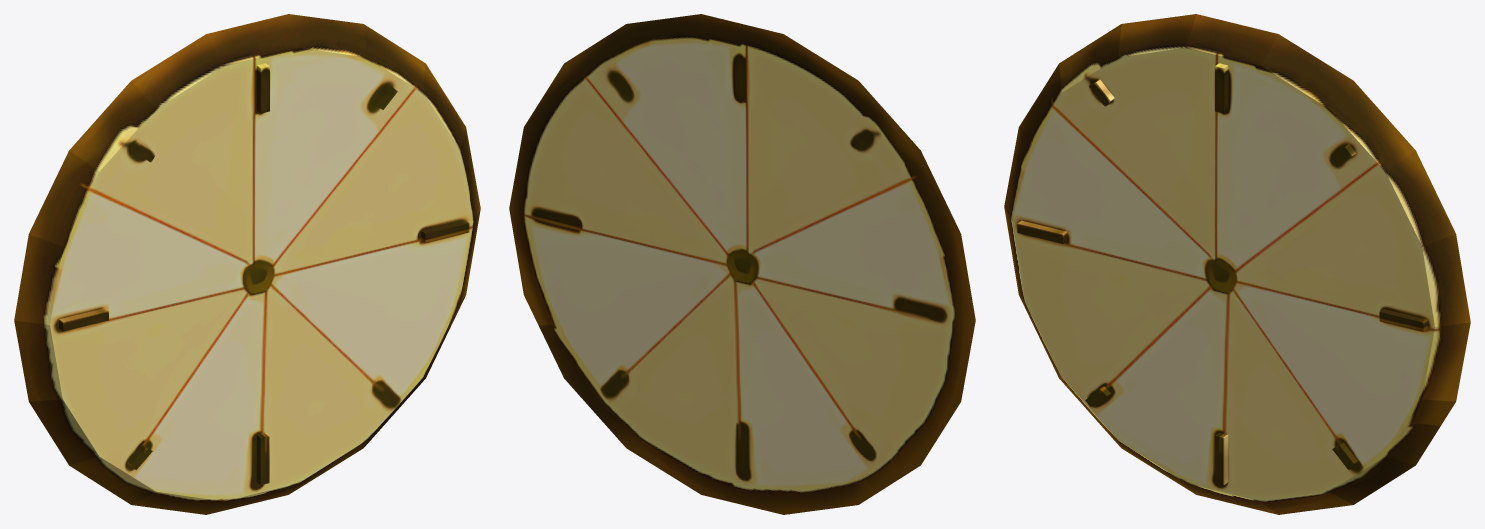
The model's file is Clock.glb.
The picture shows the model from 3 angles, left to right: view 1: azimuth 30°, elevation 25°; view 2: azimuth 150°, elevation 25°; view 3: azimuth 330°, elevation 25°; orthographic projection.
Visible parts, largest first — view 1: Clock; view 2: Clock; view 3: Clock.
Boxes of the visible parts, x1,y1,x2,y2 form: Clock: [14, 14, 480, 514]; Clock: [509, 14, 975, 514]; Clock: [1004, 14, 1470, 514].
Bounding box in the file's own units: 196 × 193 × 13.02.
Materials: 1 (1 with a texture image).
